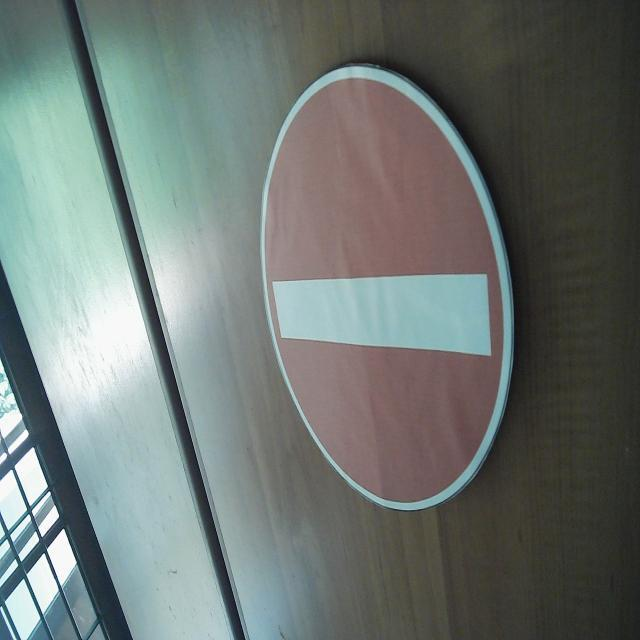no_entry: (258, 58, 517, 514)
